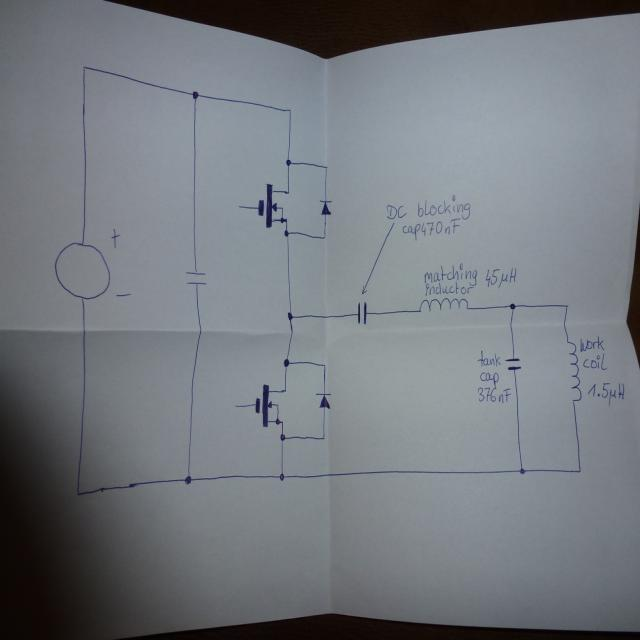capacitor: (184, 267, 207, 288), (355, 298, 368, 326), (504, 355, 522, 371)
diode: (314, 389, 332, 412), (317, 196, 334, 219)
inductor: (565, 339, 582, 403), (417, 296, 469, 312)
junction: (285, 309, 295, 322), (182, 473, 192, 485), (190, 88, 200, 100), (74, 486, 82, 499), (282, 356, 290, 368), (508, 300, 516, 311), (562, 302, 570, 312), (518, 466, 526, 476), (277, 471, 285, 481), (278, 432, 286, 442), (576, 465, 583, 475), (284, 156, 291, 166), (283, 228, 290, 238), (80, 62, 87, 71), (320, 359, 327, 368), (322, 162, 328, 171), (320, 233, 327, 240), (286, 106, 292, 114), (320, 433, 326, 441)
source: (51, 238, 112, 305)
terminal: (232, 402, 239, 409), (236, 203, 242, 209)
text: (401, 216, 461, 242), (416, 193, 471, 220), (422, 261, 477, 286), (586, 379, 624, 407), (422, 280, 474, 296), (484, 264, 516, 288), (476, 383, 510, 403), (578, 333, 606, 353), (582, 352, 608, 371), (477, 350, 501, 368), (383, 203, 408, 220), (478, 370, 499, 384)
transistor: (253, 381, 288, 429), (256, 182, 290, 229)
